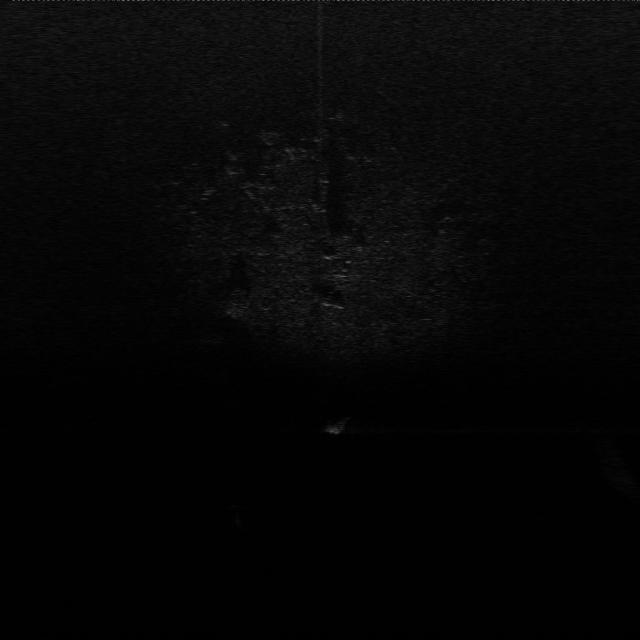square cage: (317, 410, 357, 437)
